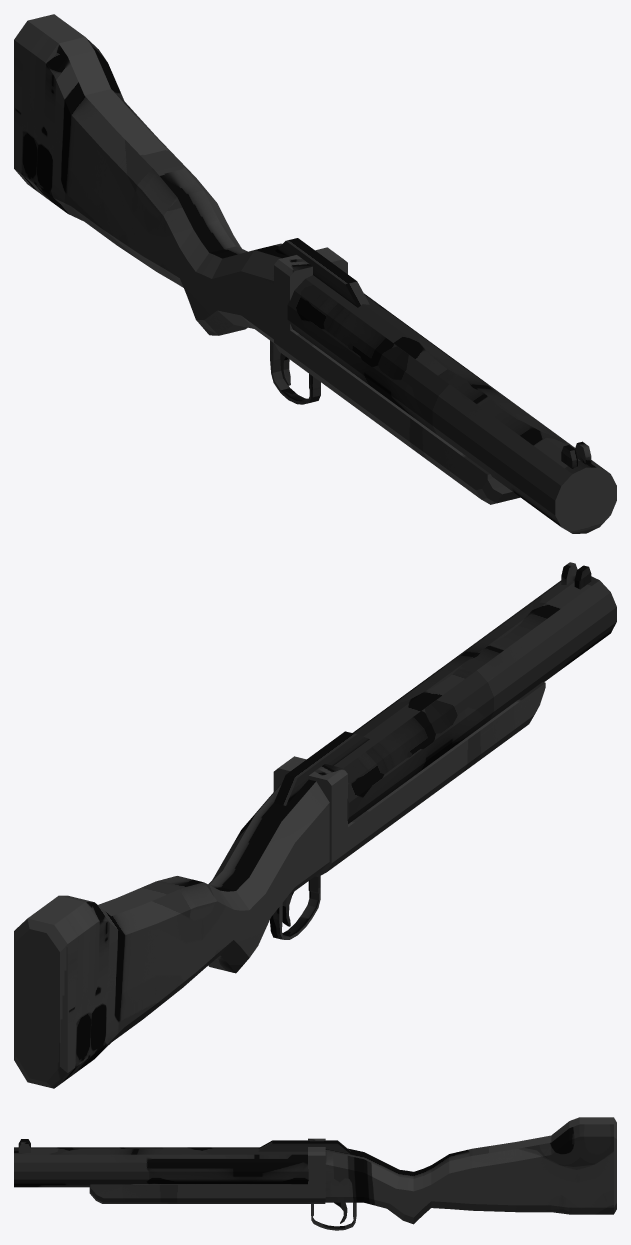
The model's file is easy-weapons-m79-launcher.glb.
3 renders of one model, top to bottom at view 1: azimuth 30°, elevation 25°; view 2: azimuth 150°, elevation 25°; view 3: azimuth 270°, elevation 25°, orthographic. The views are drawn at different scales.
Visible parts, largest first — view 1: M79_Grenade_Launcher; view 2: M79_Grenade_Launcher; view 3: M79_Grenade_Launcher.
Part boxes in pixels (x1=…): M79_Grenade_Launcher: x1=14, y1=14, x2=616, y2=533; M79_Grenade_Launcher: x1=14, y1=562, x2=616, y2=1088; M79_Grenade_Launcher: x1=14, y1=1117, x2=616, y2=1230.
Size of the model in its own units: 0.0377 by 0.1151 by 0.58.
Materials: 1 (1 with a texture image).
